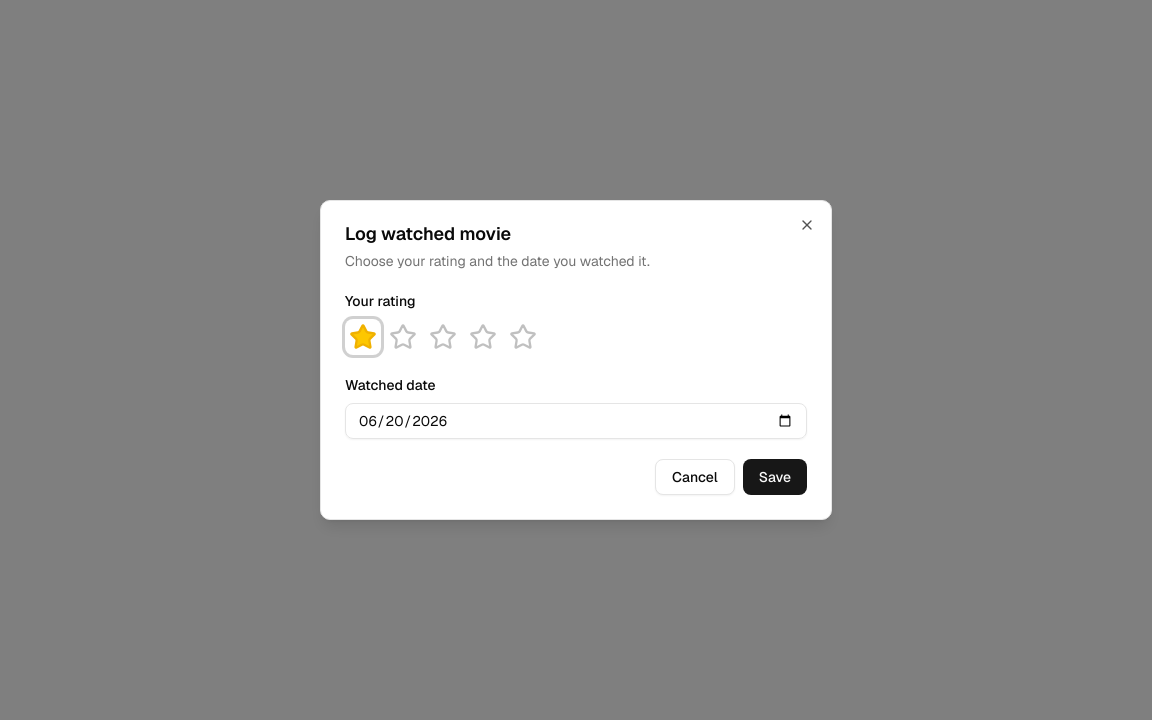
Scenario: MarkWatchedDialog › asks for a rating before saving
Click the button "Save": (775,477) [743,459,807,495]
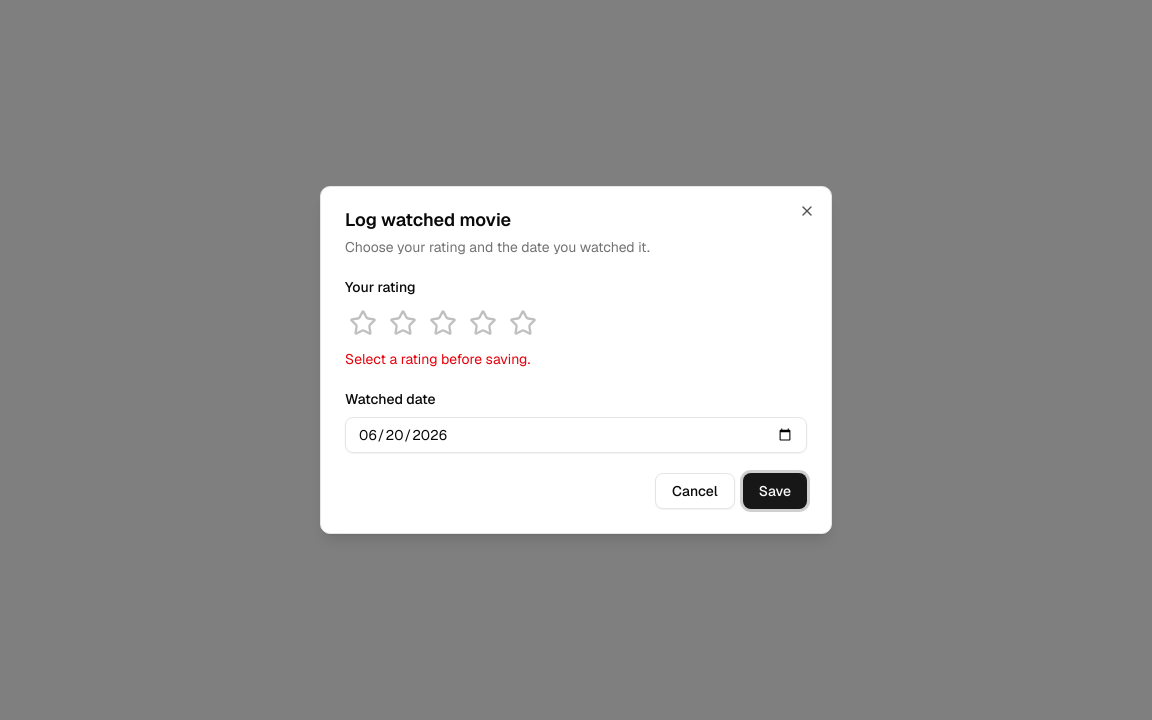
Expected: the text "Select a rating before saving." is shown, [345,350,530,368]
